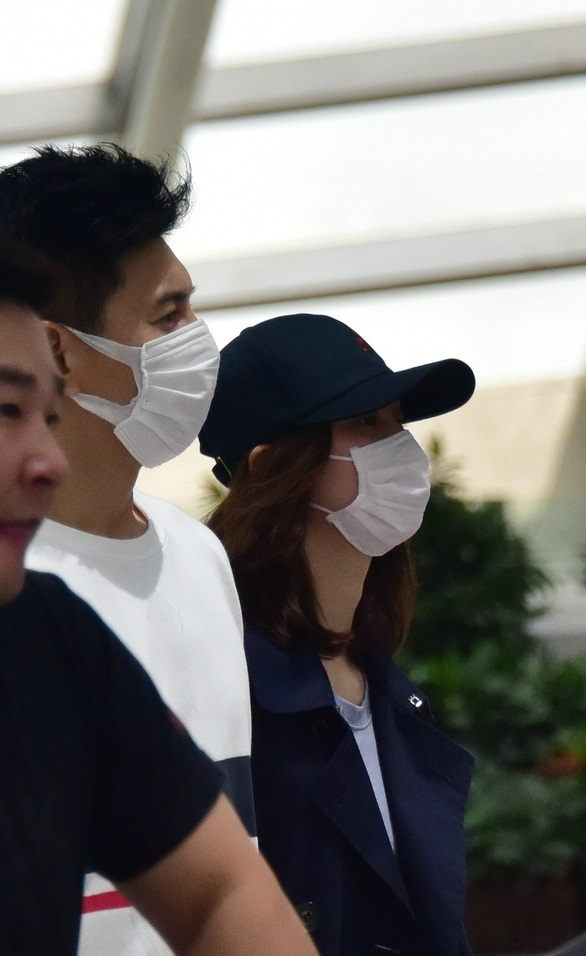face: (1, 332, 72, 603)
face_mask: (83, 219, 217, 480), (328, 390, 434, 562)
